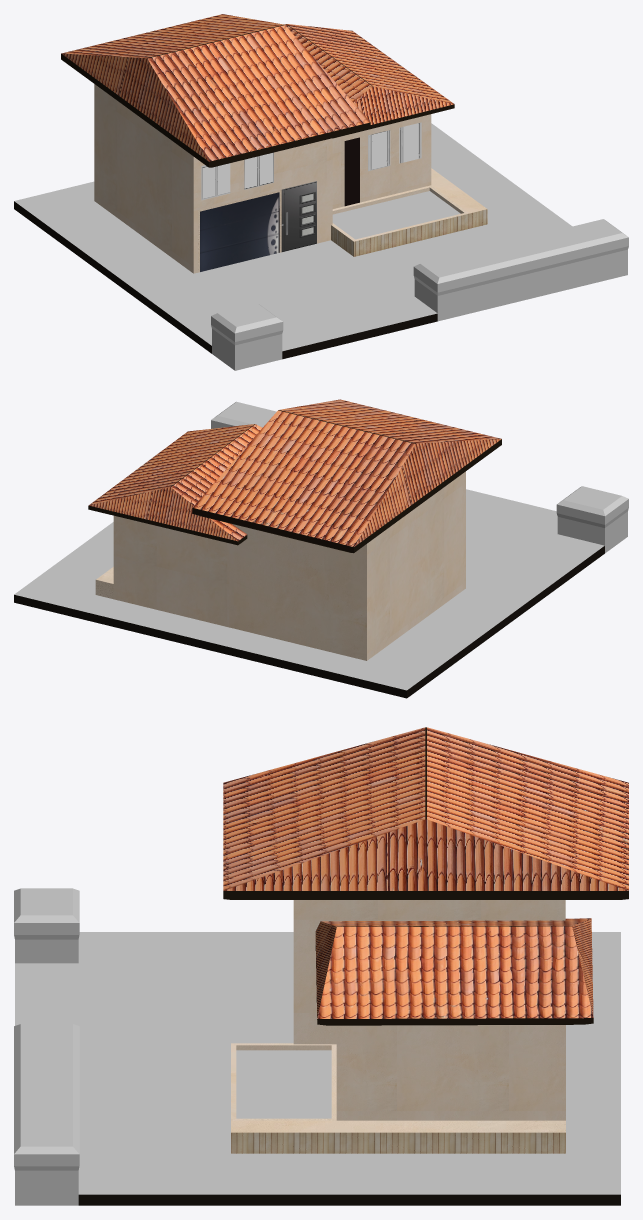
Rendered from Maison4.fbx.
3 renders of one model, top to bottom at view 1: azimuth 30°, elevation 25°; view 2: azimuth 150°, elevation 25°; view 3: azimuth 270°, elevation 25°, orthographic. The views are drawn at different scales.
Parts seen in each view (by area): view 1: Boîte003, Boîte002, Boîte004, Boîte005; view 2: Boîte002, Boîte003, Boîte004, Boîte005; view 3: Boîte003, Boîte004, Boîte002, Boîte005.
Boxes of the visible parts, x1,y1,x2,y2 form: Boîte003: [14, 123, 628, 370]; Boîte002: [94, 84, 487, 273]; Boîte004: [61, 14, 370, 167]; Boîte005: [284, 24, 454, 138]; Boîte002: [95, 471, 465, 660]; Boîte003: [14, 401, 628, 698]; Boîte004: [192, 399, 501, 553]; Boîte005: [88, 424, 262, 545]; Boîte003: [14, 888, 620, 1205]; Boîte004: [223, 727, 628, 899]; Boîte002: [231, 900, 565, 1153]; Boîte005: [315, 918, 593, 1025].
Size of the model in its own units: 3540 by 1610 by 3490.
